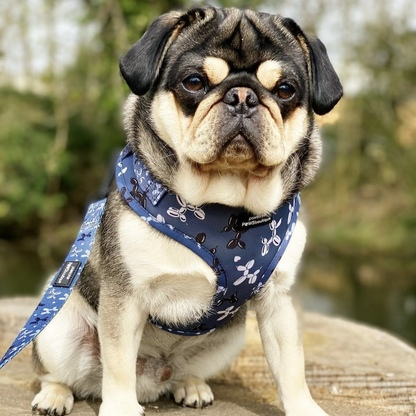Pug: (27, 1, 352, 416)
